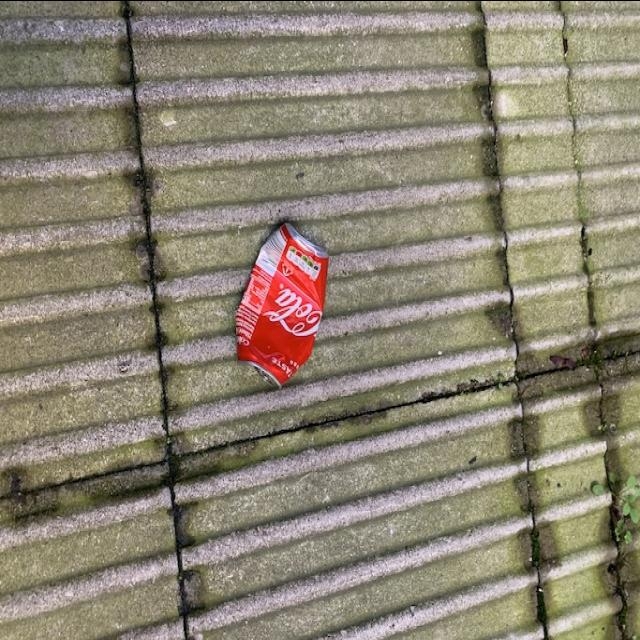Aluminum Can: (230, 218, 332, 392)
